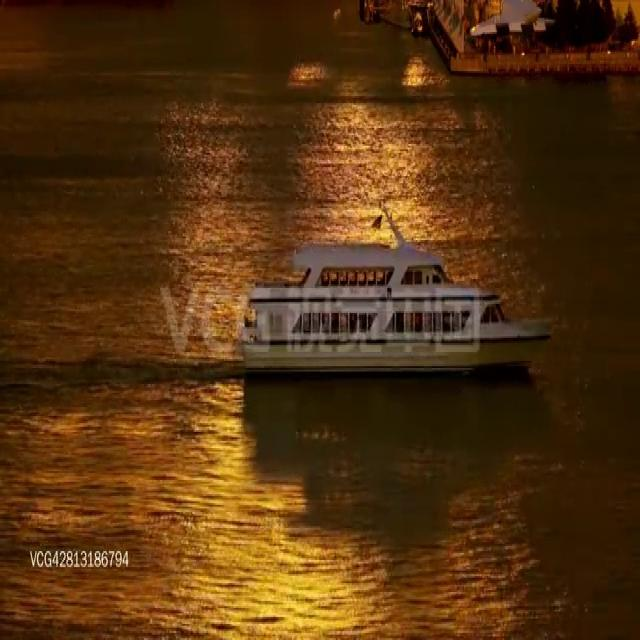passenger ship: (238, 239, 548, 381)
